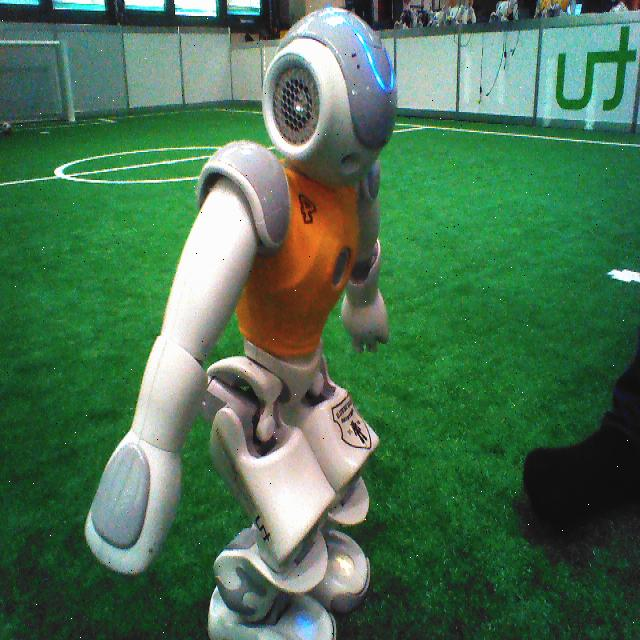ball: (0, 120, 11, 133)
goalpost: (59, 37, 77, 123)
